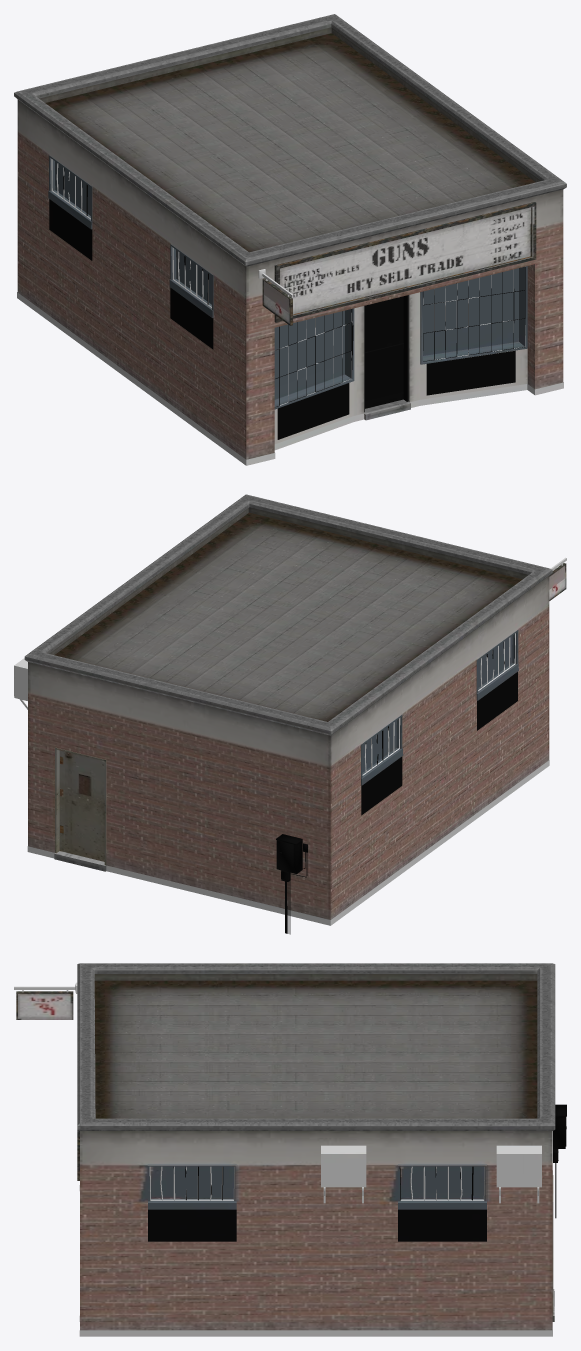
Rendered from gun_shop_lod1.glb.
3 renders of one model, top to bottom at view 1: azimuth 30°, elevation 25°; view 2: azimuth 150°, elevation 25°; view 3: azimuth 270°, elevation 25°, orthographic. The views are drawn at different scales.
Parts seen in each view (by area): view 1: gun_shop; view 2: gun_shop; view 3: gun_shop.
Boxes of the visible parts, bbox=[...] form: gun_shop: bbox=[14, 14, 566, 465]; gun_shop: bbox=[14, 494, 566, 934]; gun_shop: bbox=[14, 963, 566, 1336].
Size of the model in its own units: 9 by 5.68 by 12.29.
Materials: 1 (1 with a texture image).
